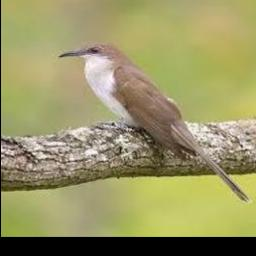Cuckoo: (58, 41, 252, 204)
